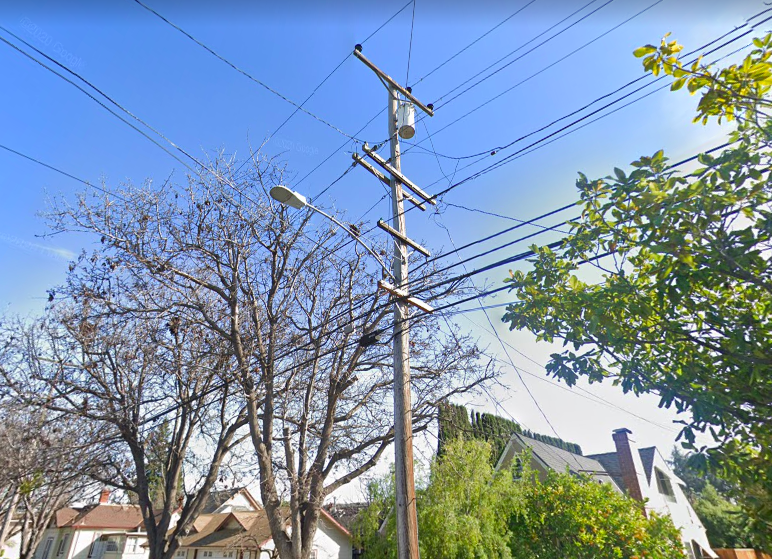utility_pole: (343, 39, 443, 146)
